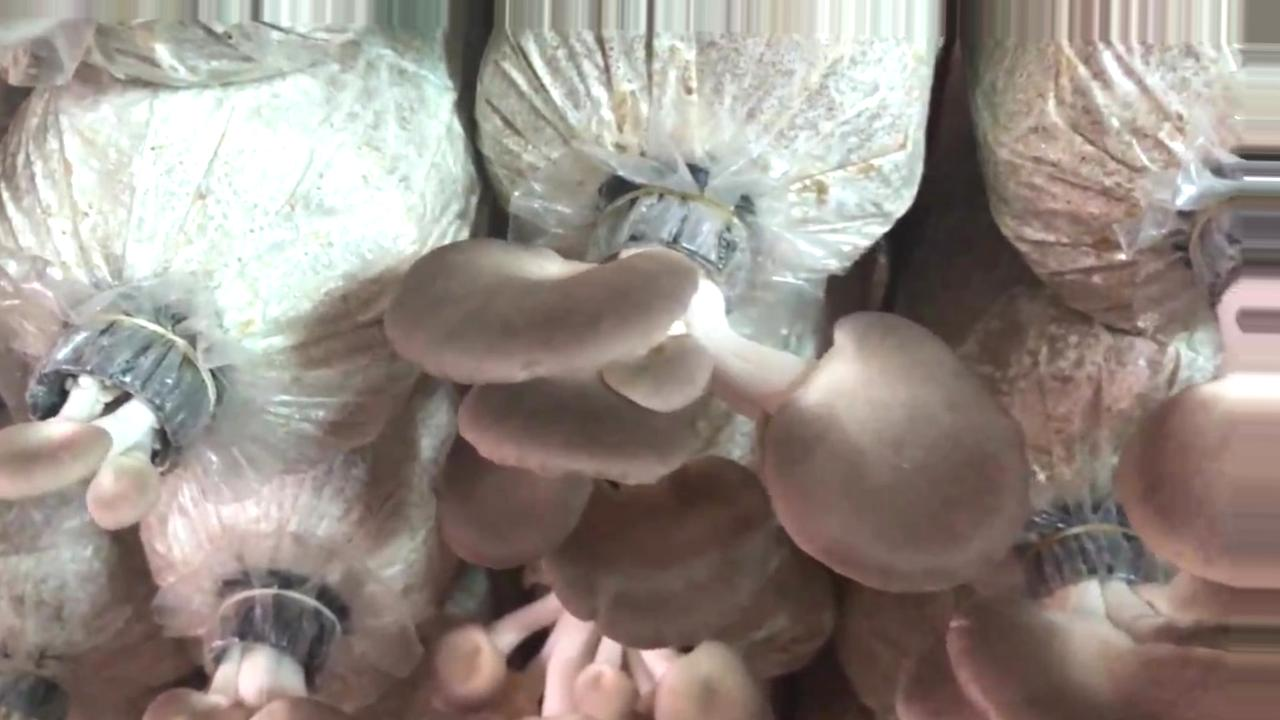nam: (385, 193, 1030, 649), (896, 520, 1278, 720), (1121, 187, 1280, 586), (1, 321, 210, 531)
